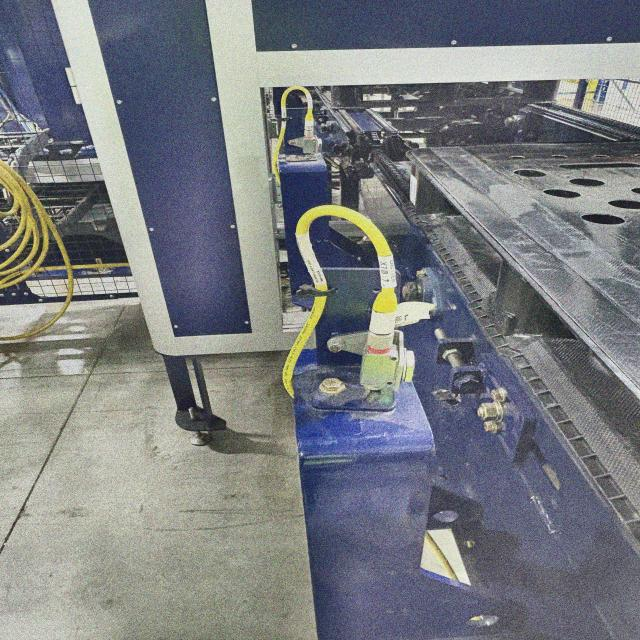igps: (395, 118, 640, 569)
